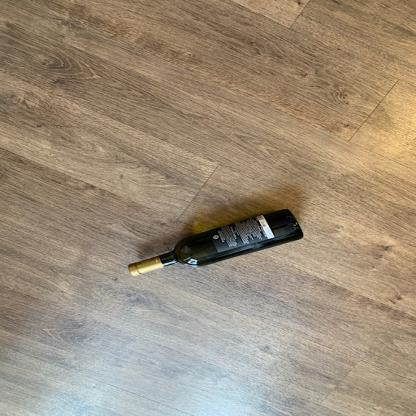trash: (124, 209, 308, 281)
